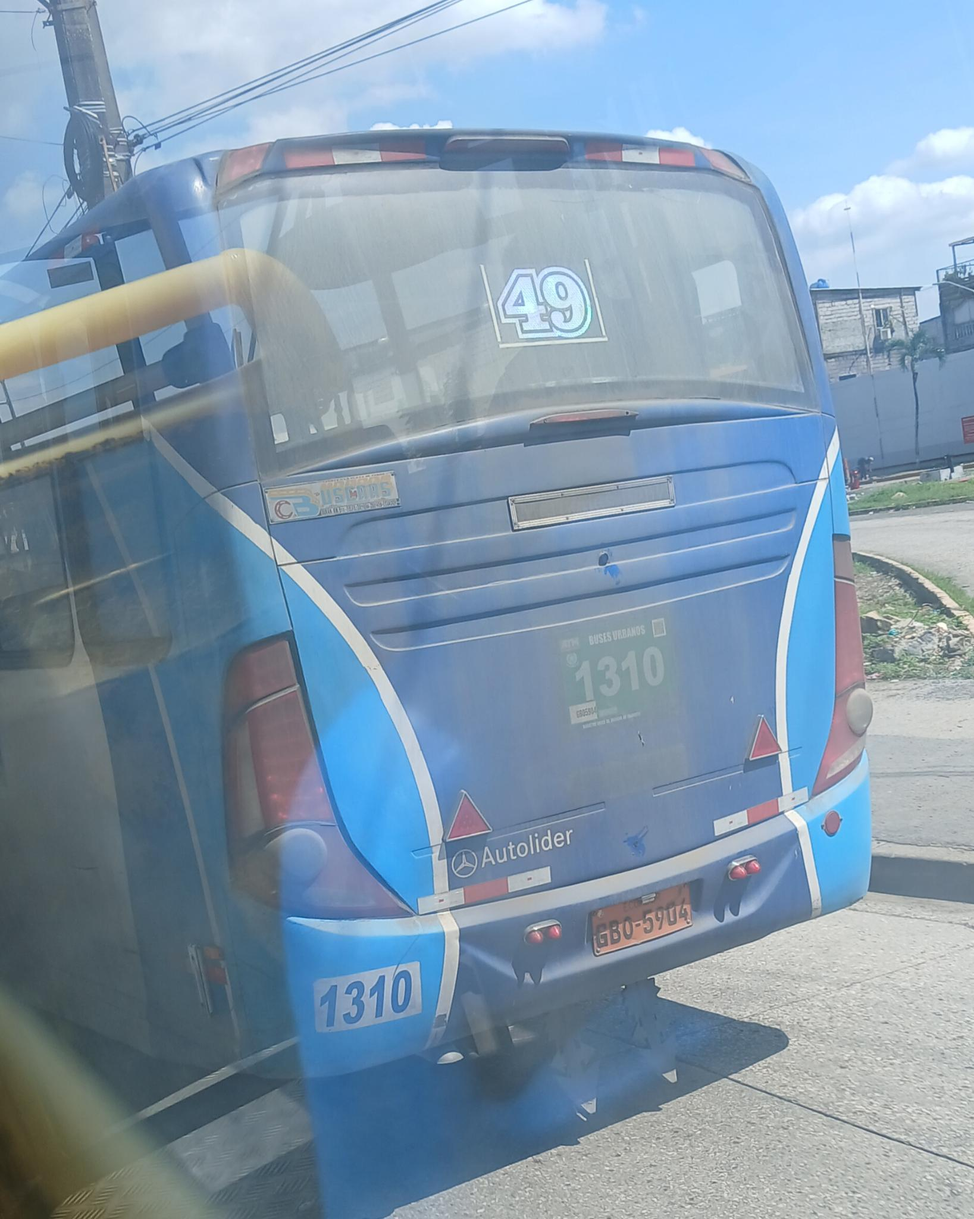license_plate: (590, 883, 688, 956)
